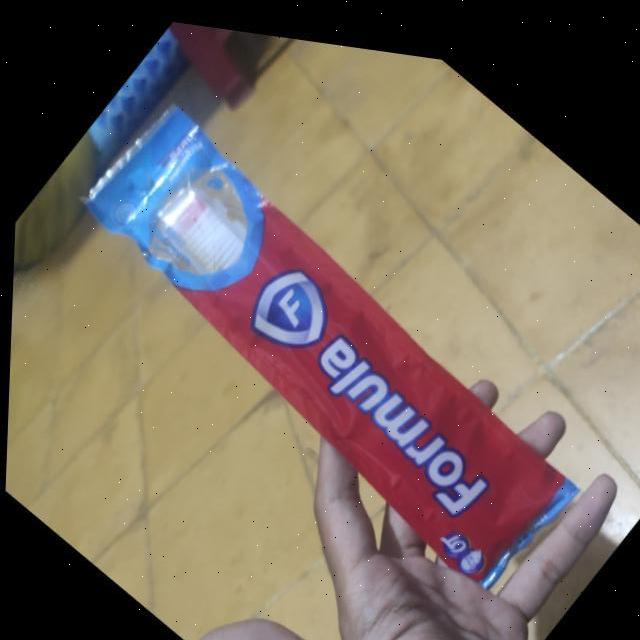toothbrush: (139, 164, 537, 539)
